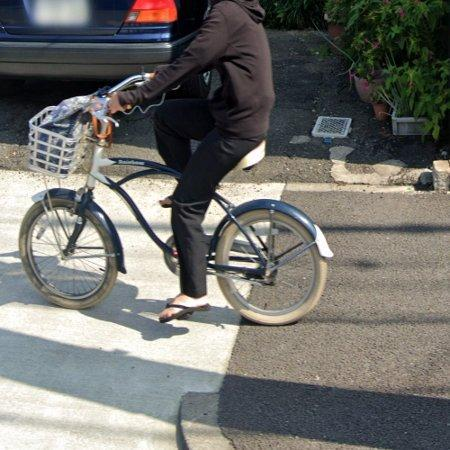bicycles: (19, 74, 182, 310), (208, 193, 333, 325)
